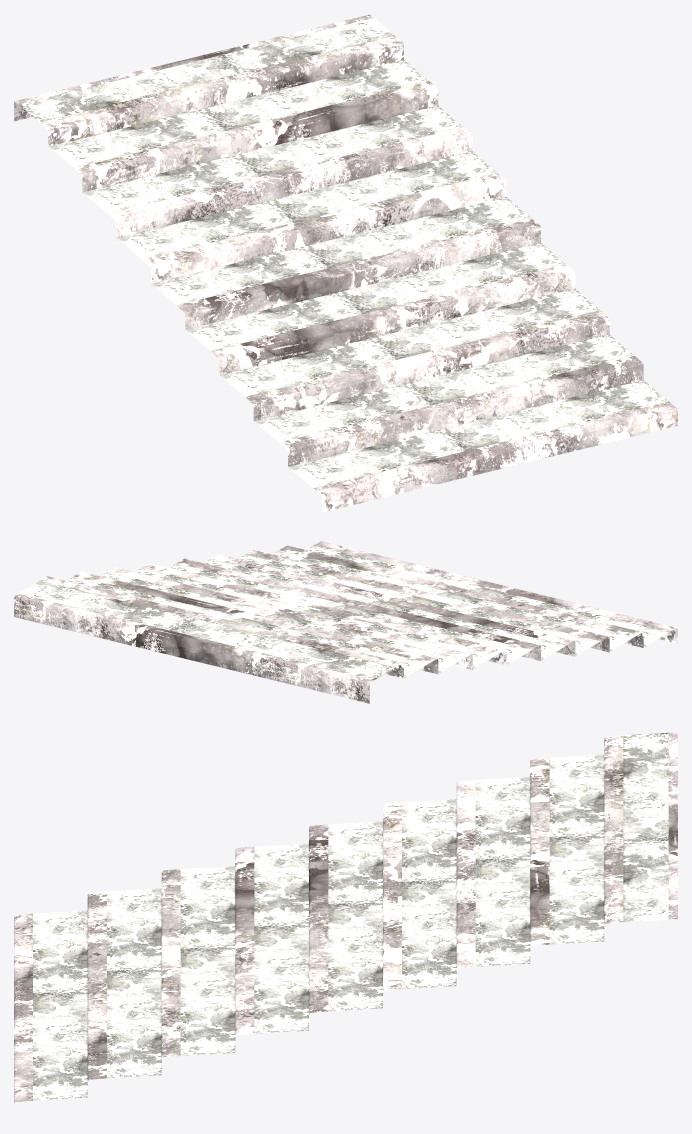
Rendered from SM_stairs_01.fbx.
3 views of the same model, one above another, from view 1: azimuth 30°, elevation 25°; view 2: azimuth 150°, elevation 25°; view 3: azimuth 270°, elevation 25° (orthographic). The views are drawn at different scales.
Visible parts, largest first — view 1: SM_stairs_01_LOD0; view 2: SM_stairs_01_LOD0; view 3: SM_stairs_01_LOD0.
Boxes of the visible parts, left/top/right/bottom form: SM_stairs_01_LOD0: left=14, top=14, right=677, bottom=512; SM_stairs_01_LOD0: left=14, top=541, right=677, bottom=703; SM_stairs_01_LOD0: left=14, top=732, right=677, bottom=1102.
Bounding box in the file's own units: 400 × 600 × 200.
Materials: 2 (2 with a texture image).
